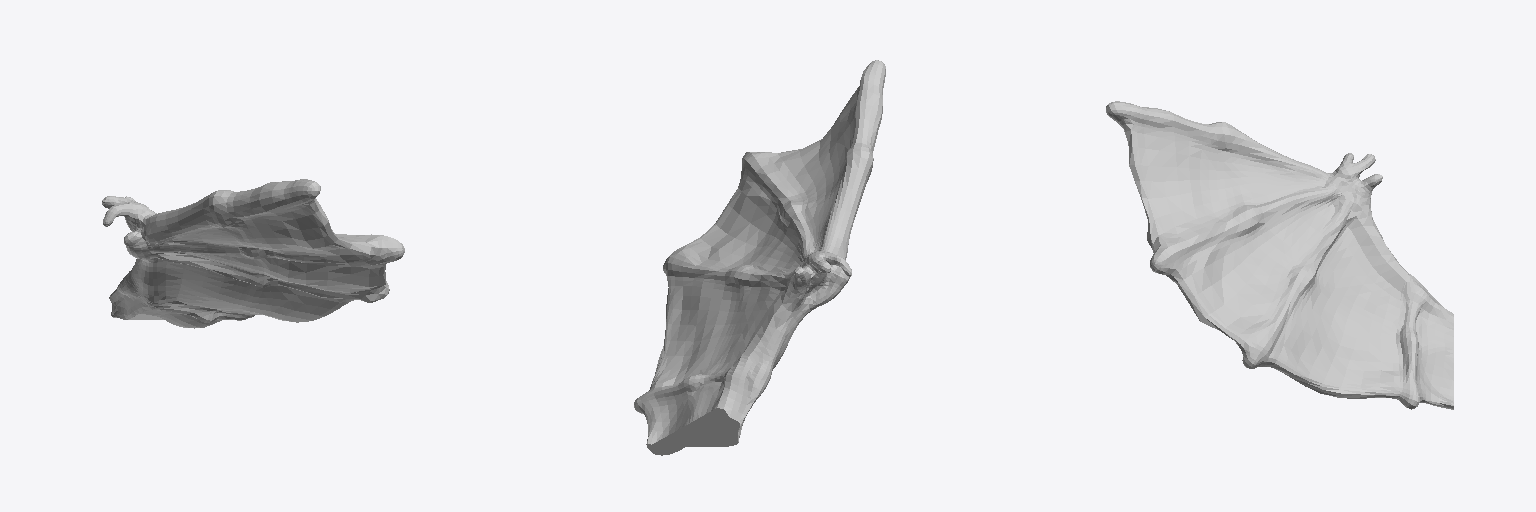
File: ala_derecha.obj
3 views of the same model, side by side, from view 1: azimuth 30°, elevation 25°; view 2: azimuth 150°, elevation 25°; view 3: azimuth 270°, elevation 25° (orthographic).
Parts seen in each view (by area): view 1: Ala_Derecha.003; view 2: Ala_Derecha.003; view 3: Ala_Derecha.003.
Boxes of the visible parts, x1=… form: Ala_Derecha.003: x1=102, y1=179, x2=404, y2=328; Ala_Derecha.003: x1=634, y1=60, x2=885, y2=455; Ala_Derecha.003: x1=1106, y1=101, x2=1453, y2=409.
Size of the model in its own units: 6.31 by 7.19 by 8.05.